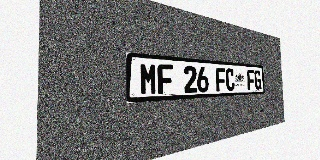2: (184, 65, 197, 93)
6: (197, 66, 209, 92)
C: (225, 68, 235, 91)
F: (157, 64, 173, 94), (215, 67, 226, 92), (247, 70, 255, 90)
G: (254, 70, 261, 90)
M: (139, 62, 157, 95)
